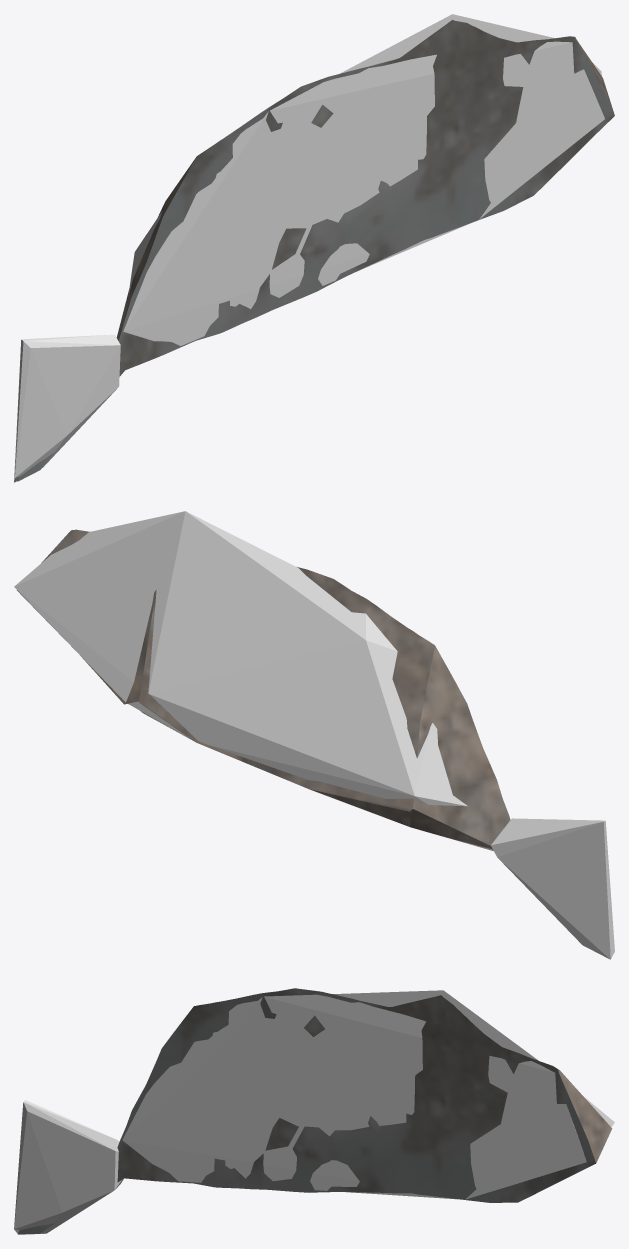
The model's file is SM_Rock_23.fbx.
3 views of the same model, one above another, from view 1: azimuth 30°, elevation 25°; view 2: azimuth 150°, elevation 25°; view 3: azimuth 330°, elevation 25° (orthographic). The views are drawn at different scales.
Visible parts, largest first — view 1: SM_Rock_23_ConvexHulls, SM_Rock_23_LOD0; view 2: SM_Rock_23_ConvexHulls, SM_Rock_23_LOD0; view 3: SM_Rock_23_ConvexHulls, SM_Rock_23_LOD0.
Boxes of the visible parts, x1,y1,x2,y2 form: SM_Rock_23_ConvexHulls: [14, 14, 604, 482]; SM_Rock_23_LOD0: [17, 20, 614, 481]; SM_Rock_23_ConvexHulls: [14, 511, 614, 959]; SM_Rock_23_LOD0: [17, 529, 510, 850]; SM_Rock_23_ConvexHulls: [14, 990, 614, 1234]; SM_Rock_23_LOD0: [18, 988, 612, 1234].
Bounding box in the file's own units: 65.61 × 9.77 × 37.28.
